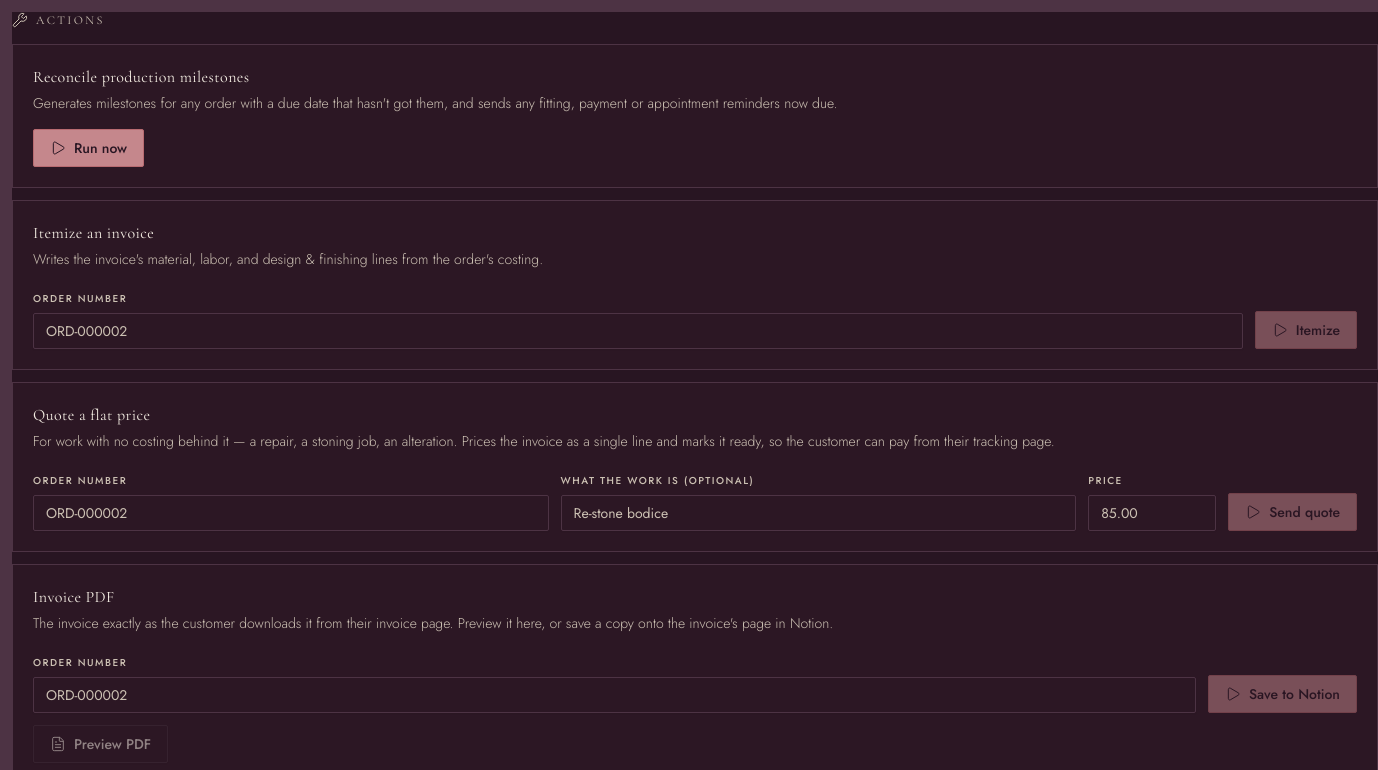
Test: StudioTools › runs a tool that takes no arguments straight away
Click the button with test id "tool-milestones-run": (89,148) [33,129,144,167]
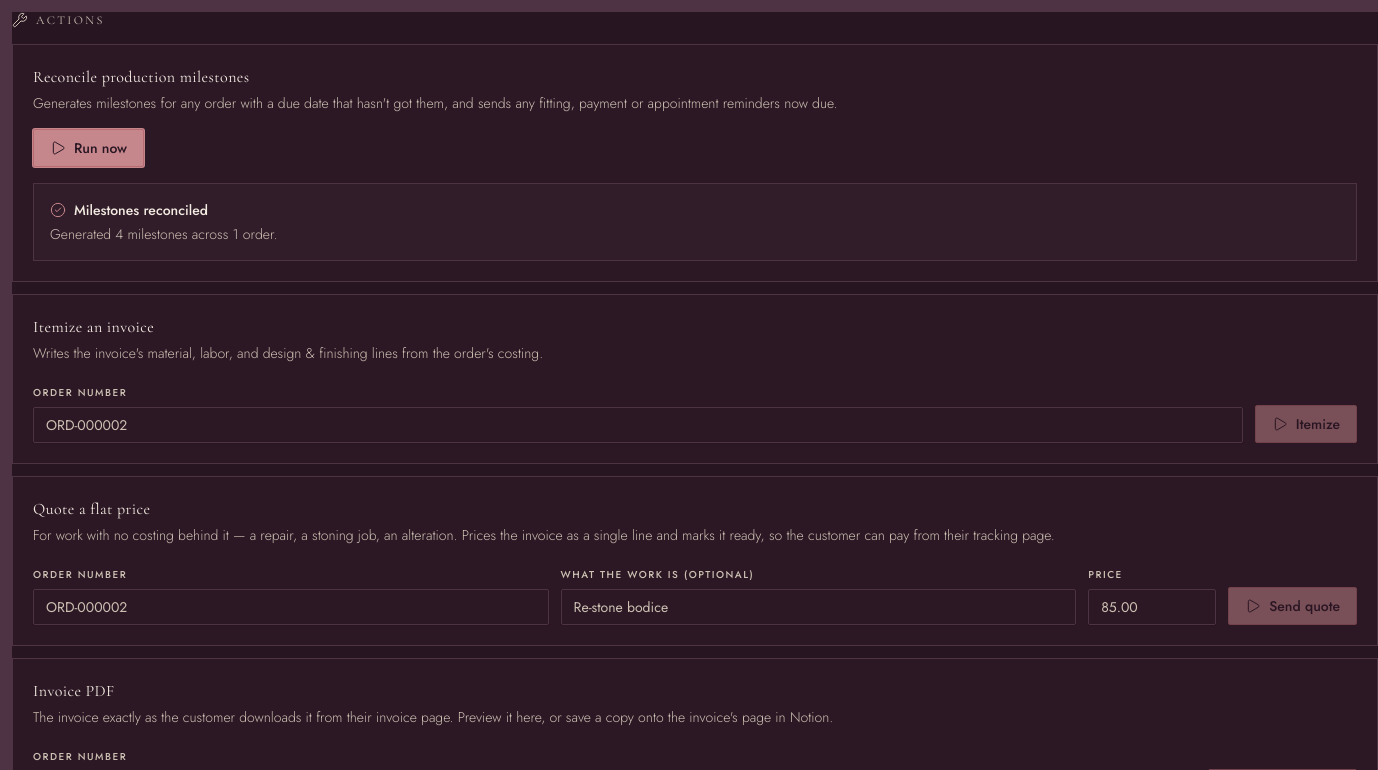
Result: the element with test id "tool-milestones-result" shows "Generated 4 milestones across 1 order." at [50,224,278,244]
